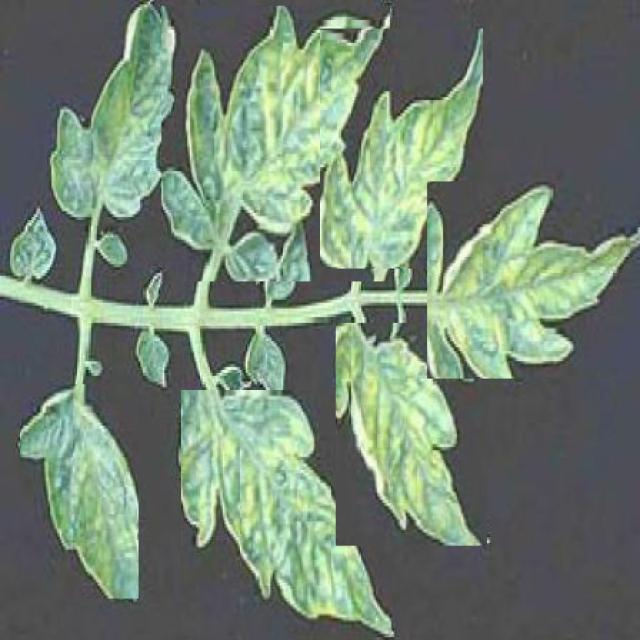Mosaic Virus: (161, 6, 390, 281), (180, 391, 392, 636), (427, 182, 640, 378), (320, 29, 483, 268), (336, 323, 488, 546), (49, 0, 175, 226), (20, 384, 139, 599)
